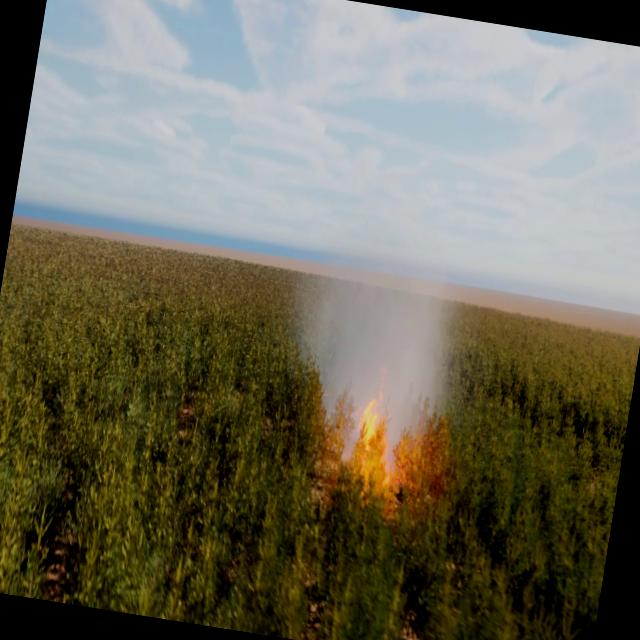fire: (348, 384, 439, 504)
smoke: (267, 200, 487, 498)
